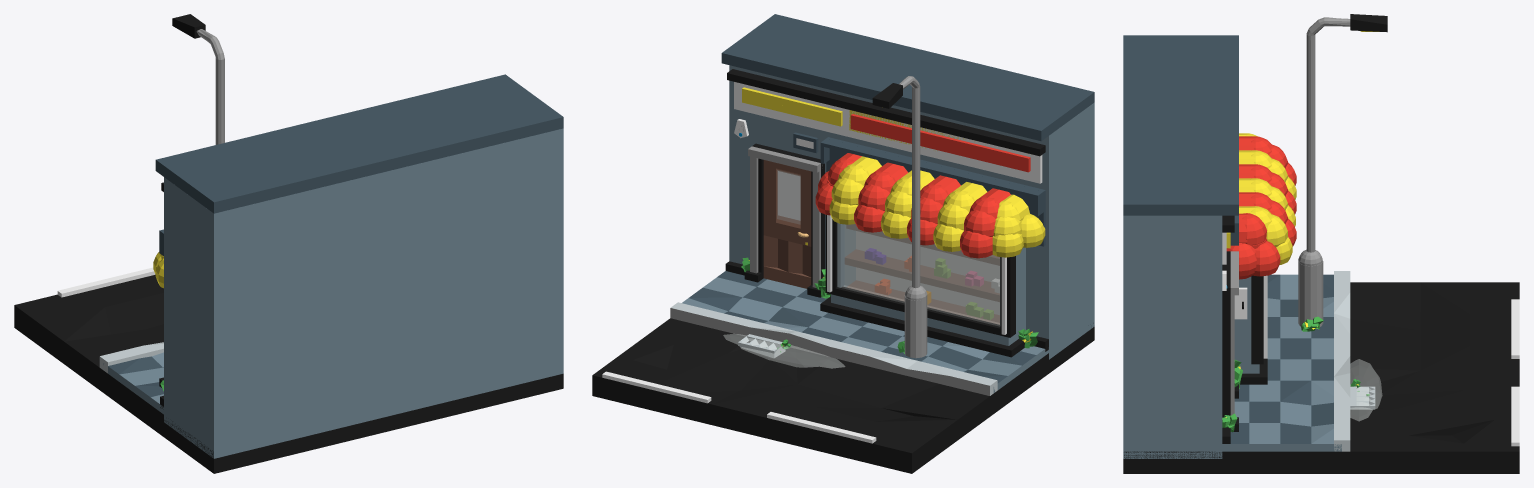
The model's file is shop.gltf.
The picture shows the model from 3 angles, left to right: view 1: azimuth 30°, elevation 25°; view 2: azimuth 150°, elevation 25°; view 3: azimuth 270°, elevation 25°; orthographic projection. The views are drawn at different scales.
Parts seen in each view (by area): view 1: group95170792, group1044749236, group95601549, group1563775249, group1678097936, group1565572875, group304421609; view 2: group95601549, group95170792, group1044749236, group1563775249, group942791974, group1565572875, group2068680559, group984519993, group1977487980, group1870773862, group1270185364, group1857969955 (+38 smaller); view 3: group95601549, group95170792, group1044749236, group1563775249, group1565572875, group1678097936, group1211307272, group1454086830, group816141866, group330344034, group1634056452, group1902949724 (+9 smaller).
Part boxes in pixels (x1,y1,x2,y2): group95170792: (164,128,563,458); group1044749236: (155,74,563,213); group95601549: (14,274,563,473); group1563775249: (103,352,163,414); group1678097936: (196,29,224,144); group1565572875: (99,342,163,373); group304421609: (57,267,155,297); group95601549: (592,318,1094,473); group95170792: (729,65,1094,359); group1044749236: (721,14,1094,141); group1563775249: (682,271,1048,392); group942791974: (837,223,999,326); group1565572875: (670,302,997,395); group2068680559: (763,160,811,288); group984519993: (734,82,1042,183); group1977487980: (727,69,1045,156); group1870773862: (856,231,999,314); group1270185364: (820,138,1043,198); group1857969955: (845,249,999,301); group95601549: (1123,282,1519,473); group95170792: (1123,215,1222,458); group1044749236: (1123,35,1238,215); group1563775249: (1219,274,1341,451); group1565572875: (1334,271,1350,451); group1678097936: (1306,17,1350,252); group1211307272: (1298,261,1323,326); group1454086830: (1234,276,1259,373); group816141866: (1350,359,1382,421); group330344034: (1251,275,1263,364); group1634056452: (1222,284,1230,417); group1902949724: (1252,241,1280,276).
Size of the model in its own units: 0.97 by 0.9 by 0.96.
